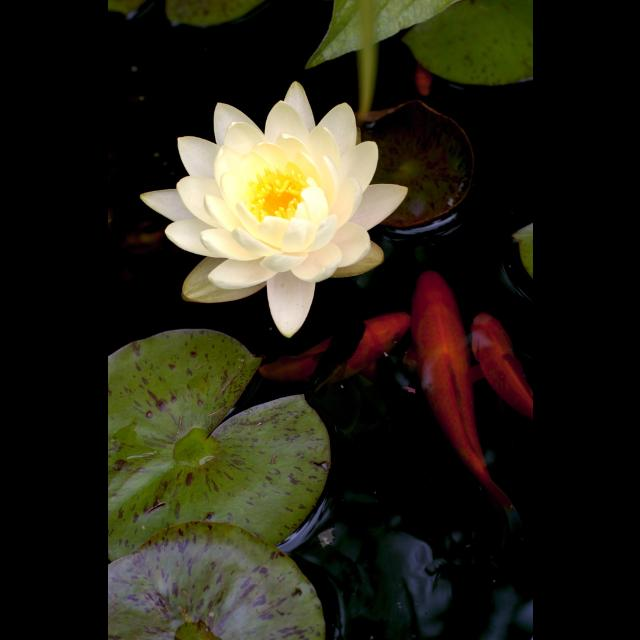Flower: (146, 78, 404, 316)
